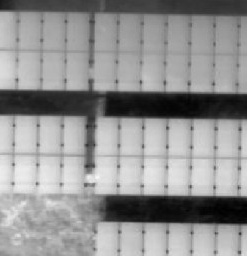solar: (39, 10, 68, 53), (63, 10, 92, 53), (90, 10, 119, 53), (115, 10, 144, 53), (139, 12, 168, 55), (163, 12, 192, 55), (188, 12, 217, 55), (212, 13, 241, 56), (14, 48, 43, 91), (38, 48, 67, 91), (63, 48, 92, 91), (89, 48, 118, 91), (115, 49, 144, 92), (138, 49, 167, 92), (162, 49, 191, 92), (187, 50, 216, 93), (212, 51, 241, 94), (10, 113, 39, 156), (36, 114, 65, 157), (60, 114, 89, 157), (92, 115, 121, 158), (117, 116, 146, 159), (140, 116, 169, 159), (165, 116, 194, 159), (190, 117, 219, 160), (214, 117, 243, 160), (10, 151, 39, 194), (35, 151, 64, 194), (59, 151, 88, 194), (90, 152, 119, 195), (115, 152, 144, 195), (139, 152, 168, 195), (165, 152, 194, 195), (189, 154, 218, 197), (213, 155, 242, 198), (15, 10, 45, 51)
